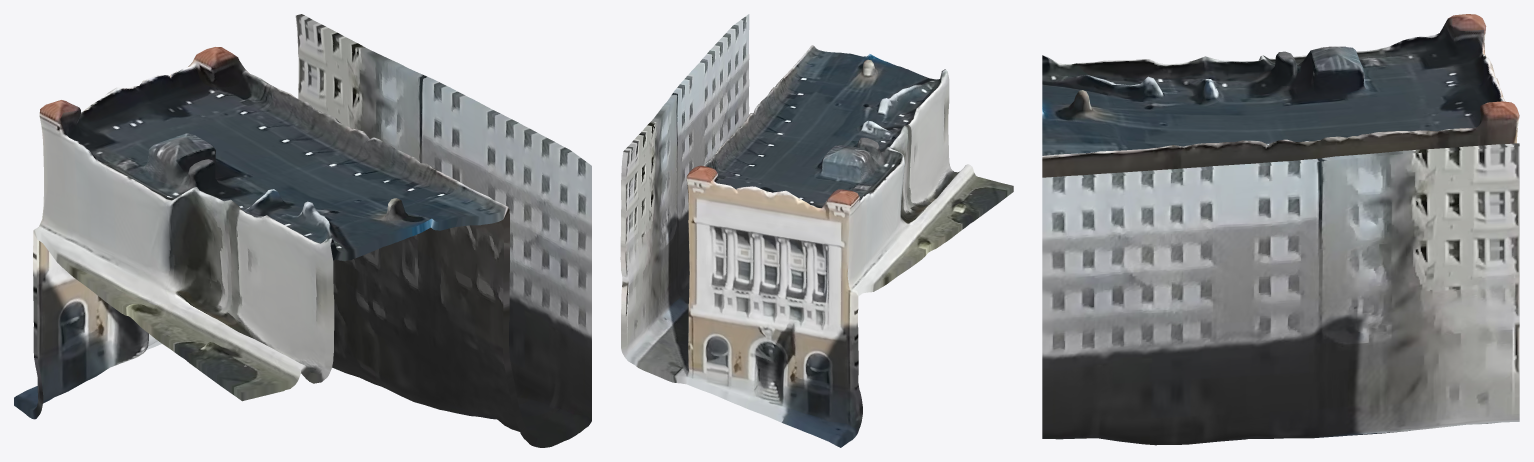
File: z20-167747-405241-h0-yup-uvflip-v3-world.glb
3 renders of one model, left to right at view 1: azimuth 30°, elevation 25°; view 2: azimuth 150°, elevation 25°; view 3: azimuth 270°, elevation 25°, orthographic. The views are drawn at different scales.
Bounding box in the file's own units: 26.84 × 23.6 × 30.32.
Materials: 1 (1 with a texture image).
